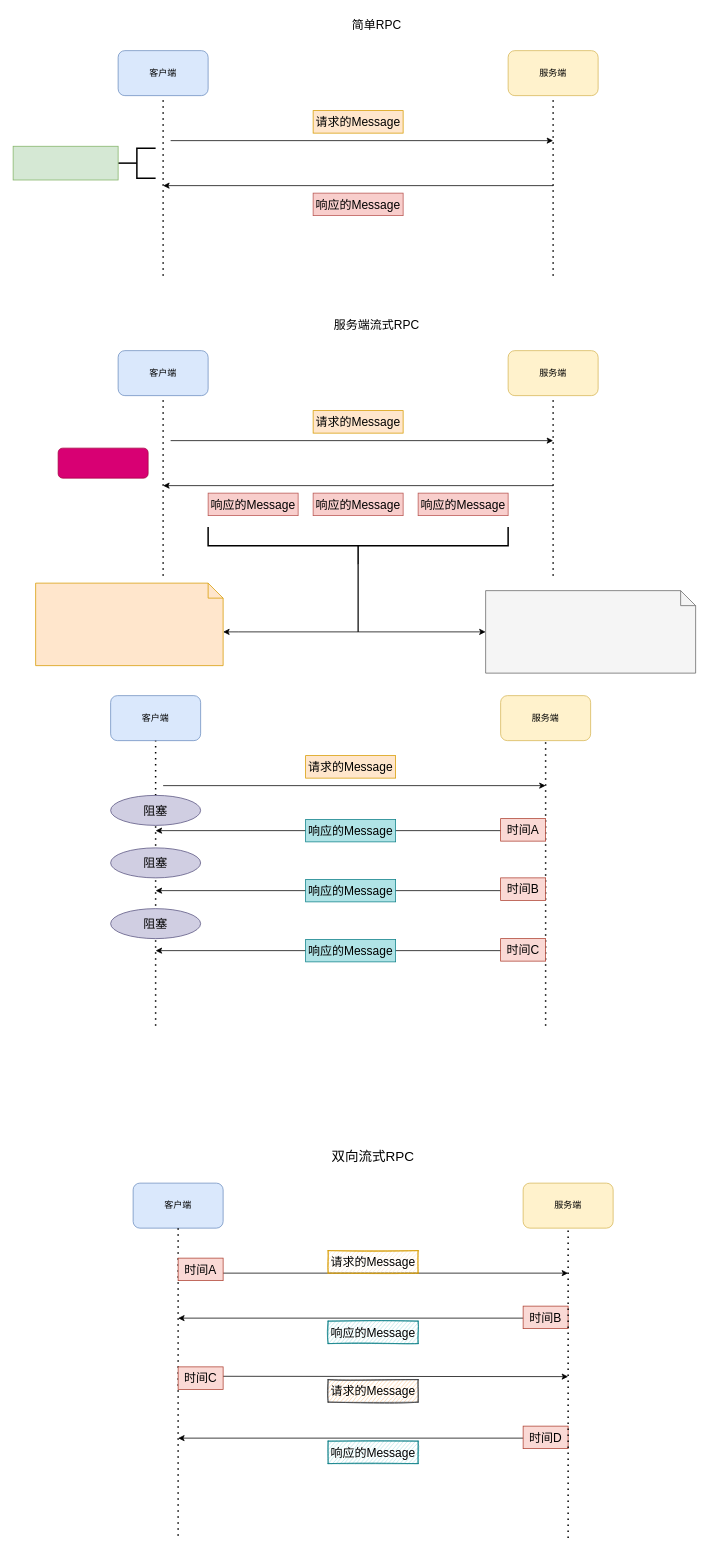
Image size: 709x1553. Some labels were removed from this diagram. The shapes that lost their labels are listed below. From the top down, each one's box as (x1, y1, x2, y2) in pixels, then its label:
(12, 146, 118, 180): 客户端等待服务端响应过程中，阻塞
(57, 447, 148, 478): 是否是阻塞的？
(35, 582, 223, 666): 正确的认知 ：这个多个返回结果，在不同时期进行返回，这就意味着客户端和服务端之间的连接也是 长连接
(485, 590, 696, 673): 一个错误的认知是 ：认为服务端返回的是一组数据，就应该放在一个List集合里面，这种就应该叫做一个返回结果
